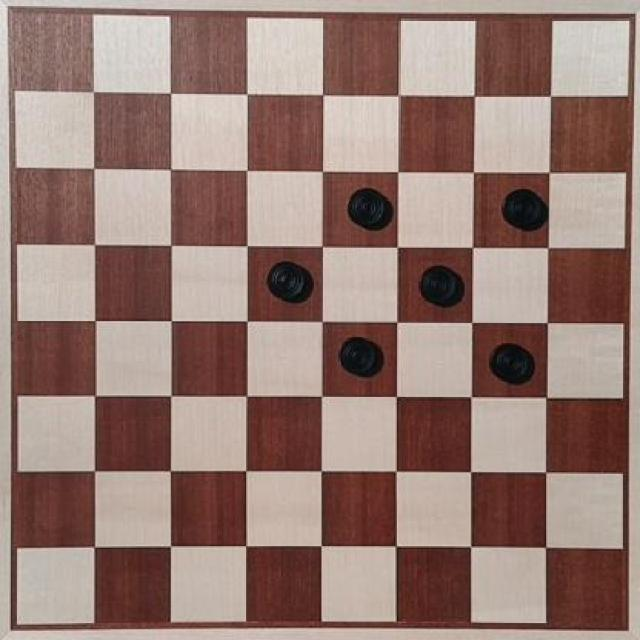BOARD: (10, 7, 630, 631)
black: (324, 173, 400, 238), (404, 259, 474, 317), (493, 181, 556, 242), (479, 336, 546, 392), (262, 250, 318, 310), (329, 329, 388, 381)
